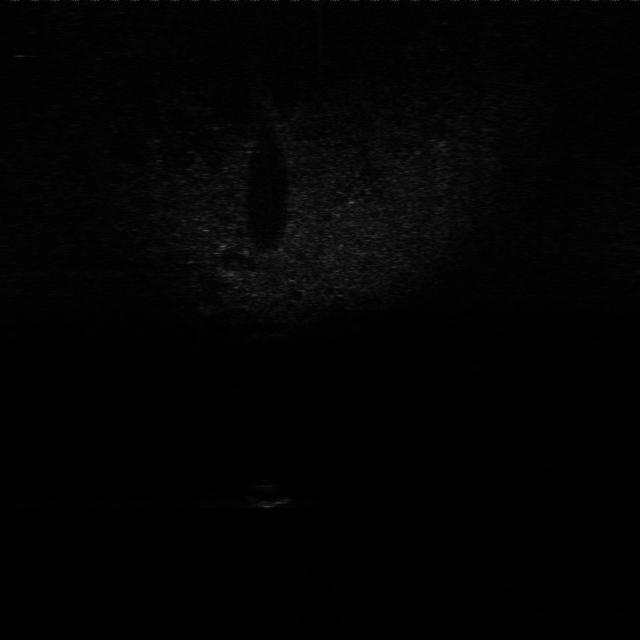ball: (246, 480, 293, 512)
